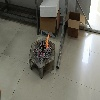fire: (45, 33, 49, 48)
